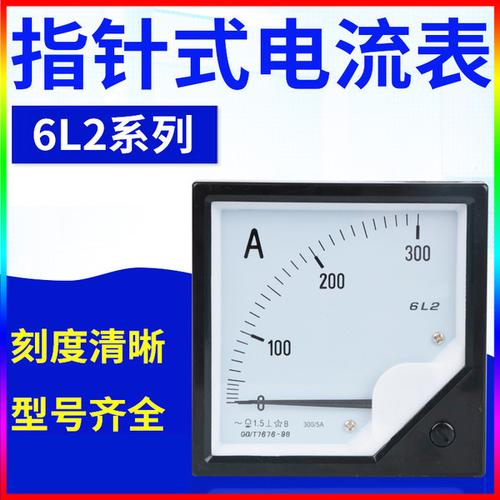pointer: (211, 200, 465, 459)
